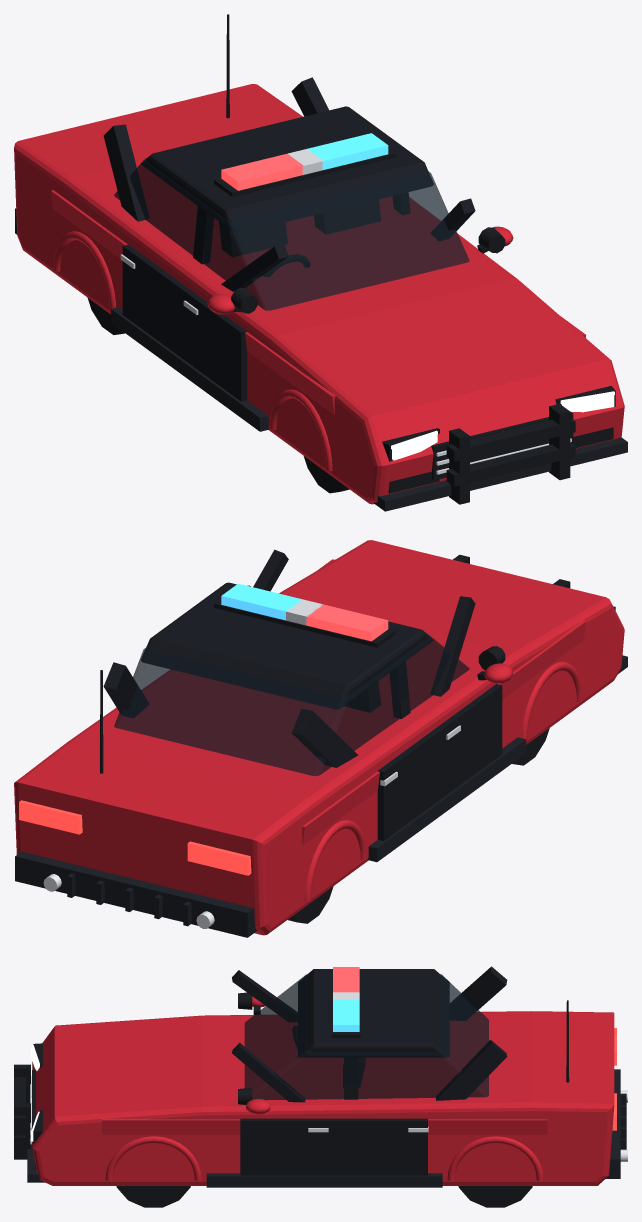
Rendered from car_police.glb.
3 views of the same model, one above another, from view 1: azimuth 30°, elevation 25°; view 2: azimuth 150°, elevation 25°; view 3: azimuth 270°, elevation 25° (orthographic). The views are drawn at different scales.
Visible parts, largest first — view 1: car_police; view 2: car_police; view 3: car_police.
Boxes of the visible parts, x1=… form: car_police: x1=14, y1=14, x2=627, y2=511; car_police: x1=14, y1=540, x2=627, y2=937; car_police: x1=14, y1=966, x2=627, y2=1207.
Size of the model in its own units: 2.28 by 1.76 by 5.1.
